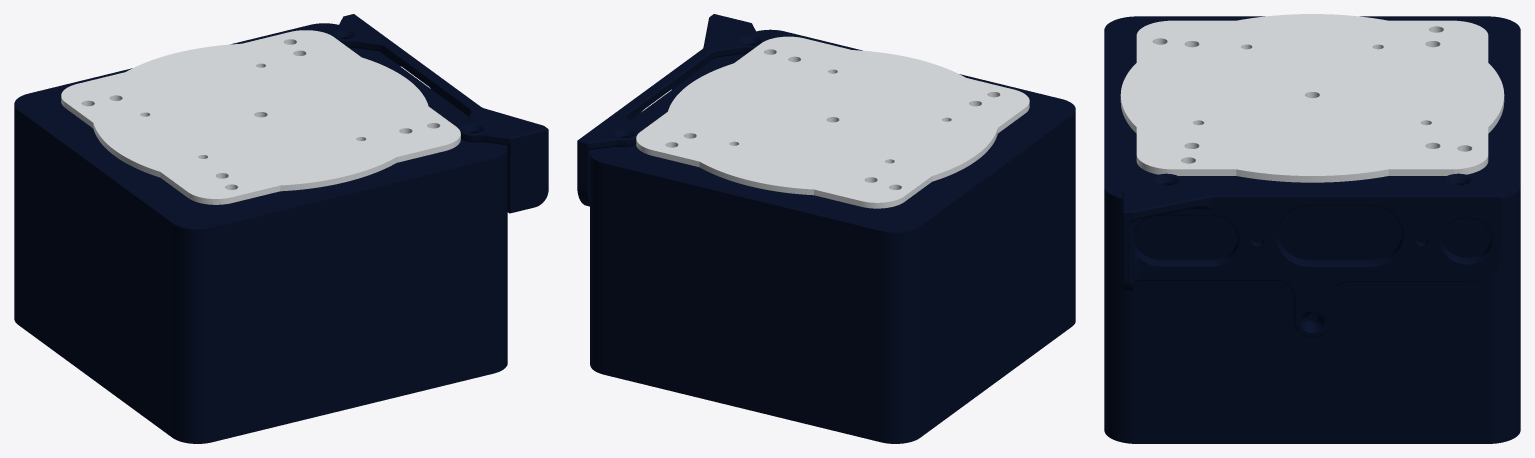
Rendered from frontier_mount_v6_realsense.dae.
3 views of the same model, side by side, from view 1: azimuth 30°, elevation 25°; view 2: azimuth 150°, elevation 25°; view 3: azimuth 270°, elevation 25° (orthographic). The views are drawn at different scales.
Visible parts, largest first — view 1: 62cd33fd971cdc2829f435c3 (×2); view 2: 62cd33fd971cdc2829f435c3 (×2); view 3: 62cd33fd971cdc2829f435c3 (×2).
Boxes of the visible parts, x1,y1,x2,y2 form: 62cd33fd971cdc2829f435c3 (×2): (14,14,548,443); 62cd33fd971cdc2829f435c3 (×2): (577,14,1075,443); 62cd33fd971cdc2829f435c3 (×2): (1104,14,1520,443).
Bounding box in the file's own units: 0.133 × 0.114 × 0.0777.
